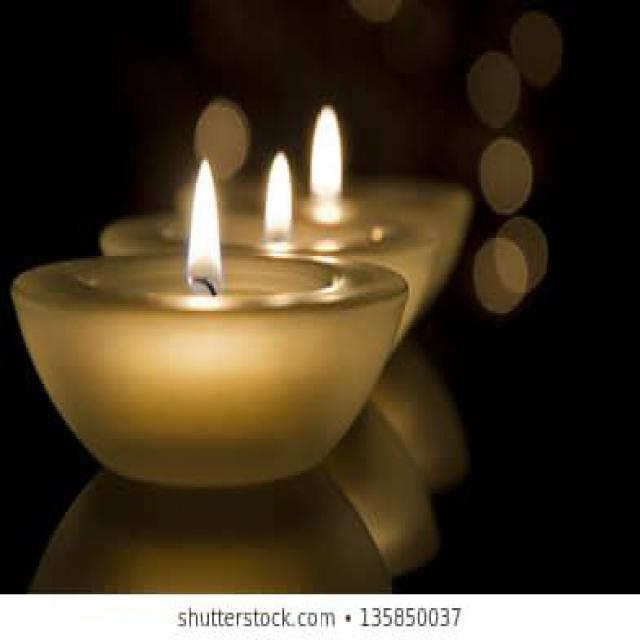Fire: (188, 160, 220, 295), (311, 106, 342, 221), (265, 152, 293, 246)
